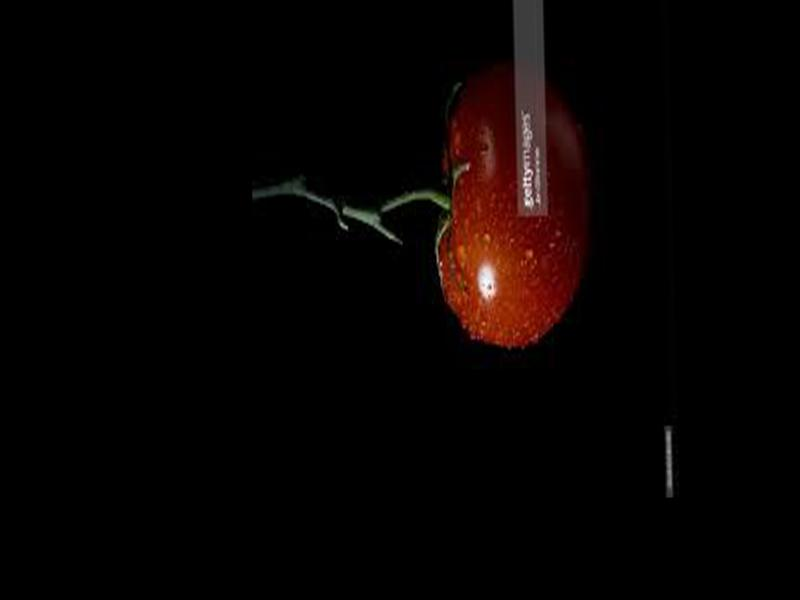Tomato: (436, 71, 588, 347)
